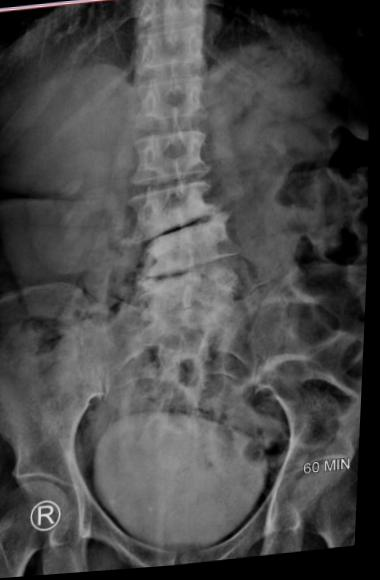bladder: (83, 398, 282, 571)
vertebrae: (128, 68, 207, 128)
